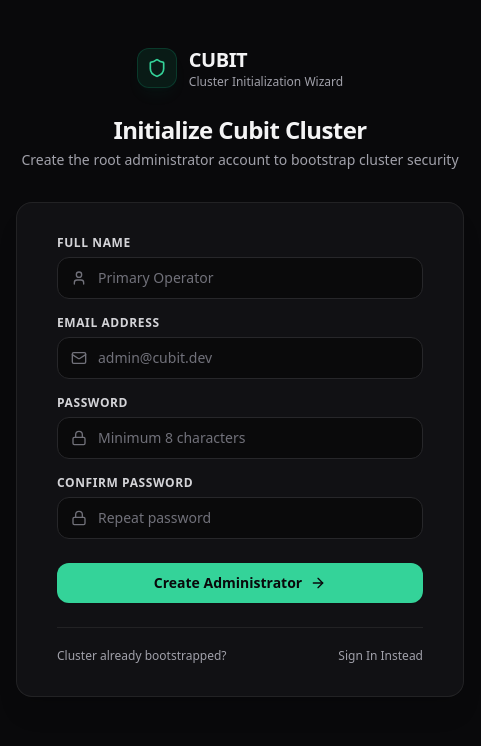
Test: Given the SetupPage component (Initial Cluster Onboarding) › When setup was already completed by another user › Then displays conflict error message
The width and height of the screenshot is (481, 746).
Type "Late Admin" into the field labelled "Full Name" at (240, 278), box [57,256,423,298]
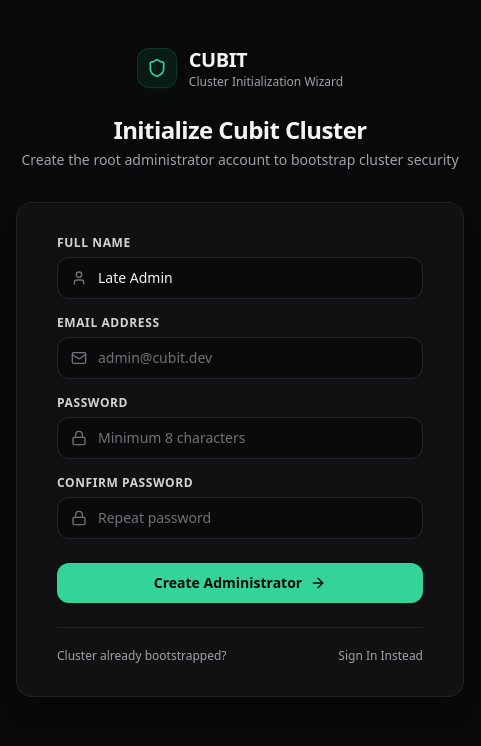
Type "late@cubit.dev" into the field labelled "Email Address" at (240, 358), box [57,336,423,378]
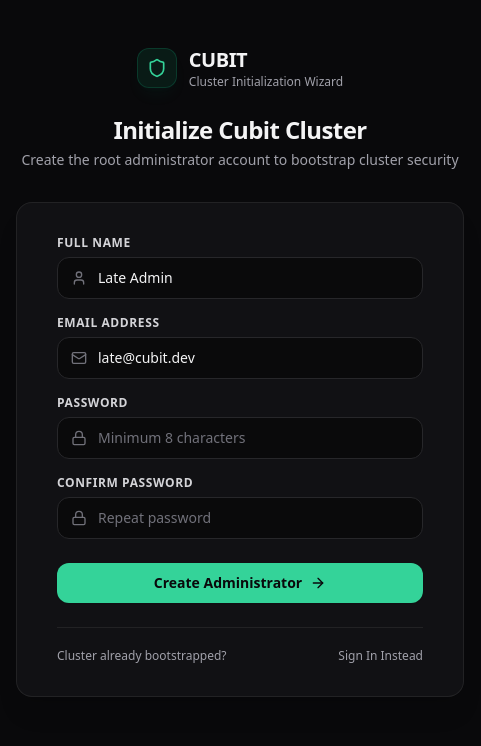
Type "validpassword123" into the password field labelled "Password" at (240, 438), box [57,416,423,458]
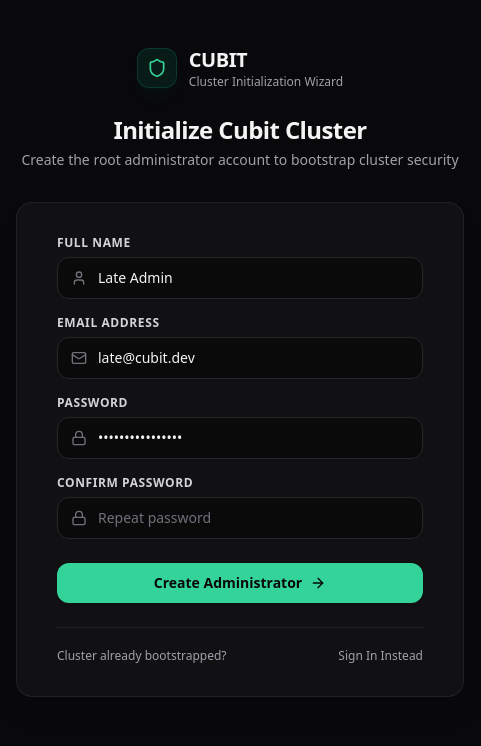
Type "validpassword123" into the password field labelled "Confirm Password" at (240, 518), box [57,496,423,538]
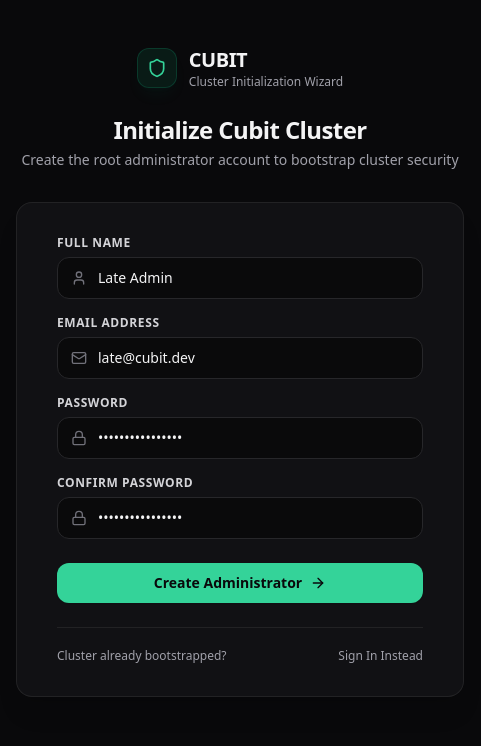
Click the button "Create Administrator" at (240, 582), box [57,562,423,602]
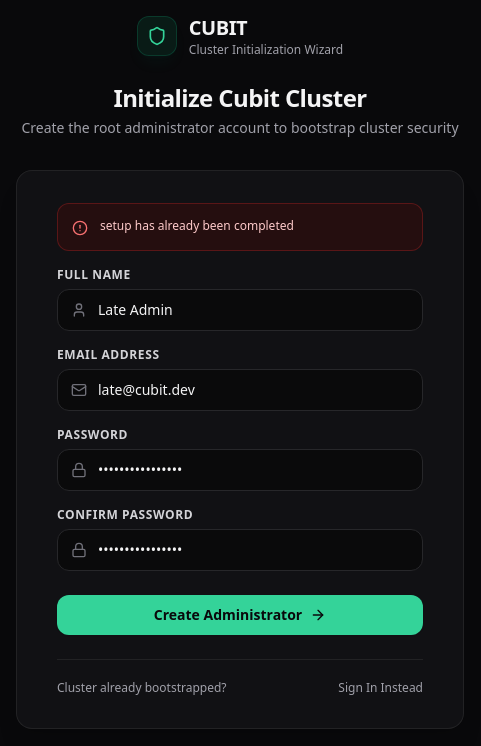
Check: the text "setup has already been completed" is shown, box [100,216,294,234]
